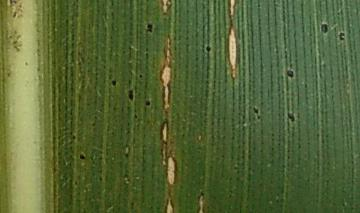tarspot: (123, 85, 138, 105), (141, 19, 156, 35), (141, 94, 153, 112), (282, 67, 297, 81), (75, 151, 89, 165), (318, 19, 330, 35), (284, 109, 297, 123), (334, 29, 347, 43), (107, 75, 119, 90), (202, 43, 215, 55), (251, 103, 262, 116), (136, 70, 146, 81)
